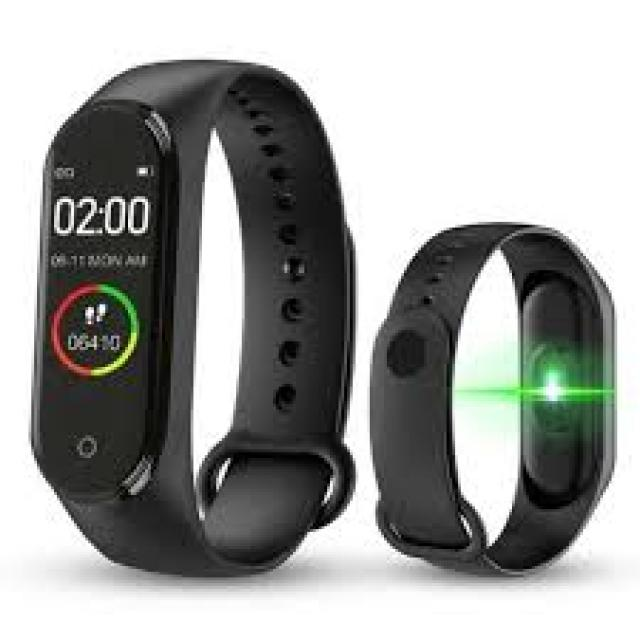objects: (34, 60, 353, 575), (369, 219, 611, 576)
